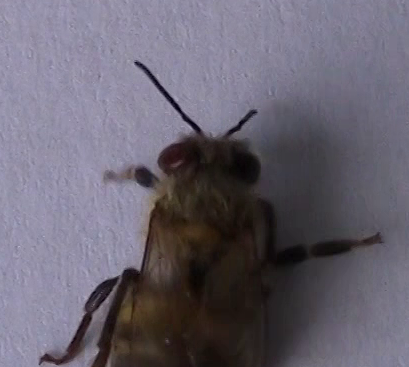Varroa destructor: (152, 143, 198, 173)
